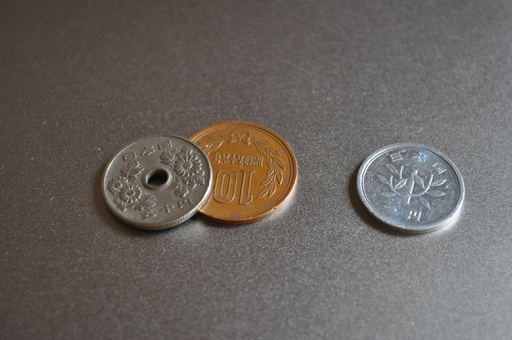10yen: (177, 122, 297, 224)
1yen: (355, 142, 464, 234)
50yen: (101, 136, 213, 231)
